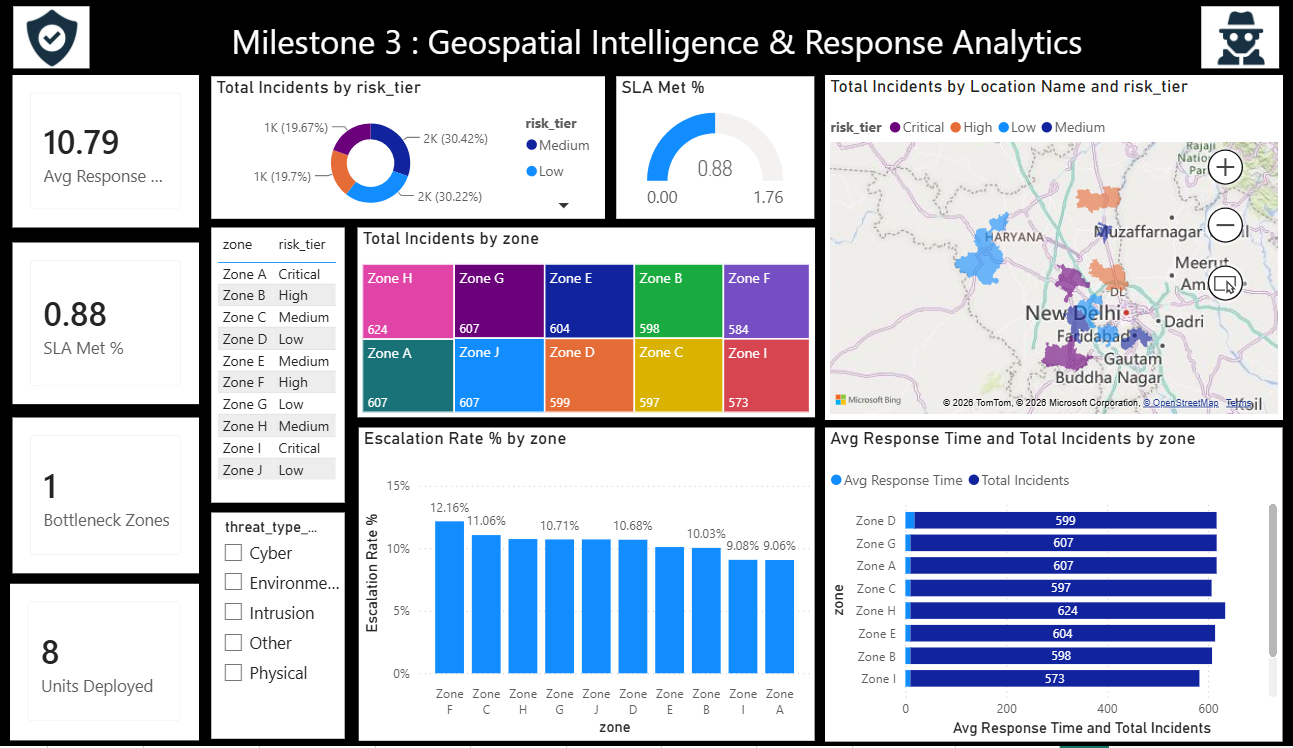

Layout of this report page (visuals, bound fields, positions):
{"tool":"powerbi","page":{"name":"Page 3","canvas":[1280,720],"ordinal":2},"visuals":[{"type":"textbox","box":[9.7,13.3,1248.7,60.3],"z":0},{"type":"cardVisual","fields":{"Data":["Fact_Incident.Avg Response Time"]},"box":[12.5,72.5,180,147.5],"z":1000},{"type":"cardVisual","fields":{"Data":["Fact_Incident.SLA Met %"]},"box":[12.5,233.8,180,156.2],"z":2000},{"type":"cardVisual","fields":{"Data":["Fact_Incident.Bottleneck Zones"]},"box":[12.1,403,180,150],"z":3000},{"type":"cardVisual","fields":{"Data":["Fact_Incident.Units Deployed"]},"box":[9.7,563.4,182.2,150.8],"z":4000},{"type":"filledMap","fields":{"Series":["Dim_Geo.risk_tier"],"Category":["Dim_Geo.Location Name"]},"box":[796,72,441.6,333],"z":5000},{"type":"barChart","fields":{"Y":["Fact_Incident.Avg Response Time","Fact_Incident.Total Incidents"],"Category":["Dim_Geo.zone"]},"box":[796,412,441.6,302.8],"z":6000},{"type":"tableEx","fields":{"Values":["Dim_Geo.zone","Dim_Geo.risk_tier"]},"box":[203.9,219.6,129.1,265.4],"z":7000},{"type":"slicer","fields":{"Values":["Dim_ThreatType.threat_type_name"]},"box":[203.8,495,128.8,218.8],"z":8000},{"type":"clusteredColumnChart","fields":{"Category":["Dim_Geo.zone"],"Y":["Fact_Incident.Escalation Rate %"]},"box":[346,412,440,302],"z":9000},{"type":"treemap","fields":{"Group":["Dim_Geo.zone"],"Values":["Fact_Incident.Total Incidents"]},"box":[345,219.6,441.6,183.4],"z":10000},{"type":"gauge","fields":{"Y":["Fact_Incident.SLA Met %"]},"box":[595,73.8,191.2,137.5],"z":11000},{"type":"image","box":[0,6.2,98.8,60],"z":12000},{"type":"image","box":[1157.5,6.2,80,60],"z":13000},{"type":"donutChart","fields":{"Category":["Dim_Geo.risk_tier"],"Y":["Fact_Incident.Total Incidents"]},"box":[203.8,73.8,380,137.5],"z":14000}]}

Visuals, with their boxes in screenshot pixels (x1, y1, x2, y2), scaled from the page's 1280x720 canvas onto the 1293x748 screenshot:
textbox: 10 14 1271 76
cardVisual - Fact_Incident.Avg Response Time: 13 75 194 229
cardVisual - Fact_Incident.SLA Met %: 13 243 194 405
cardVisual - Fact_Incident.Bottleneck Zones: 12 419 194 575
cardVisual - Fact_Incident.Units Deployed: 10 585 194 742
filledMap - Dim_Geo.risk_tier x Dim_Geo.Location Name: 804 75 1250 421
barChart - Fact_Incident.Avg Response Time x Fact_Incident.Total Incidents: 804 428 1250 743
tableEx - Dim_Geo.zone x Dim_Geo.risk_tier: 206 228 336 504
slicer - Dim_ThreatType.threat_type_name: 206 514 336 742
clusteredColumnChart - Dim_Geo.zone x Fact_Incident.Escalation Rate %: 350 428 794 742
treemap - Dim_Geo.zone x Fact_Incident.Total Incidents: 349 228 795 419
gauge - Fact_Incident.SLA Met %: 601 77 794 220
image: 0 6 100 69
image: 1169 6 1250 69
donutChart - Dim_Geo.risk_tier x Fact_Incident.Total Incidents: 206 77 590 220
